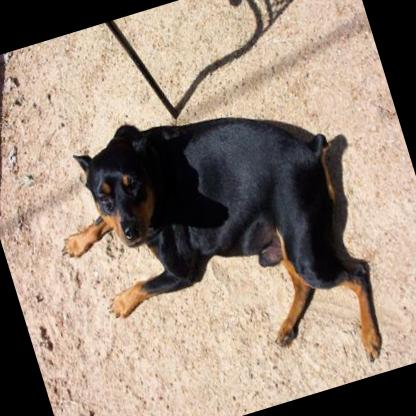miniature_pinscher: (25, 59, 395, 416)
